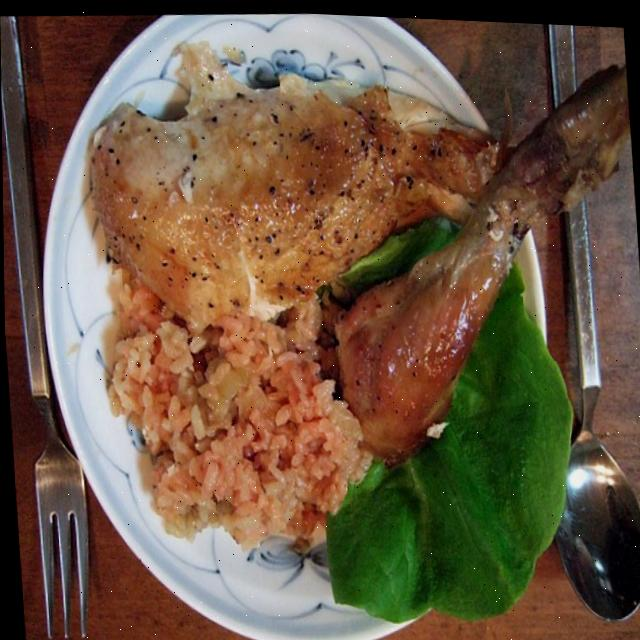鸡肉料理 含炸鸡: (68, 33, 517, 343)
